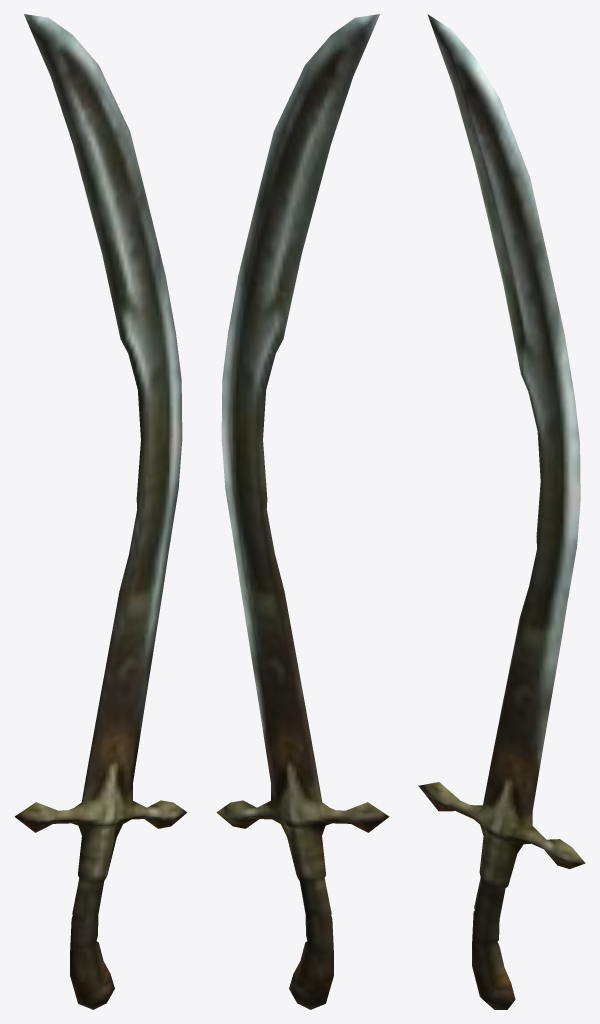
Rendered from weapon-scimitar.glb.
3 renders of one model, left to right at view 1: azimuth 30°, elevation 25°; view 2: azimuth 150°, elevation 25°; view 3: azimuth 330°, elevation 25°, orthographic. The views are drawn at different scales.
Visible parts, largest first — view 1: scimitarA_MDL_q; view 2: scimitarA_MDL_q; view 3: scimitarA_MDL_q.
Part boxes in pixels (x1,y1,x2,y2): scimitarA_MDL_q: (14,14,187,1009); scimitarA_MDL_q: (216,14,389,1009); scimitarA_MDL_q: (418,14,585,1009).
Bounding box in the file's own units: 0.2903 × 1.62 × 0.0444.
Materials: 1 (1 with a texture image).
